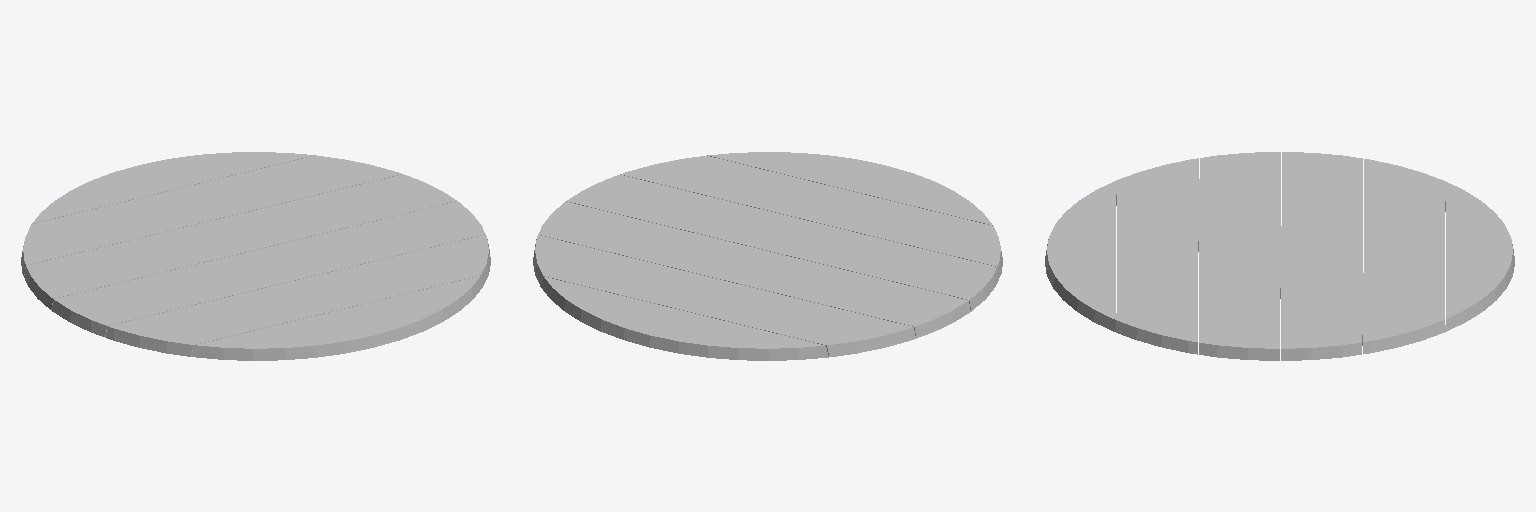
File: barrel_part.obj
3 views of the same model, side by side, from view 1: azimuth 30°, elevation 25°; view 2: azimuth 150°, elevation 25°; view 3: azimuth 270°, elevation 25° (orthographic).
Parts seen in each view (by area): view 1: wine_barrel_01_Lid_DiameterSmall.012; view 2: wine_barrel_01_Lid_DiameterSmall.012; view 3: wine_barrel_01_Lid_DiameterSmall.012.
Boxes of the visible parts, x1,y1,x2,y2 form: wine_barrel_01_Lid_DiameterSmall.012: [21, 152, 490, 360]; wine_barrel_01_Lid_DiameterSmall.012: [533, 152, 1002, 360]; wine_barrel_01_Lid_DiameterSmall.012: [1045, 152, 1514, 360].
Bounding box in the file's own units: 4.05 × 0.107 × 4.05.